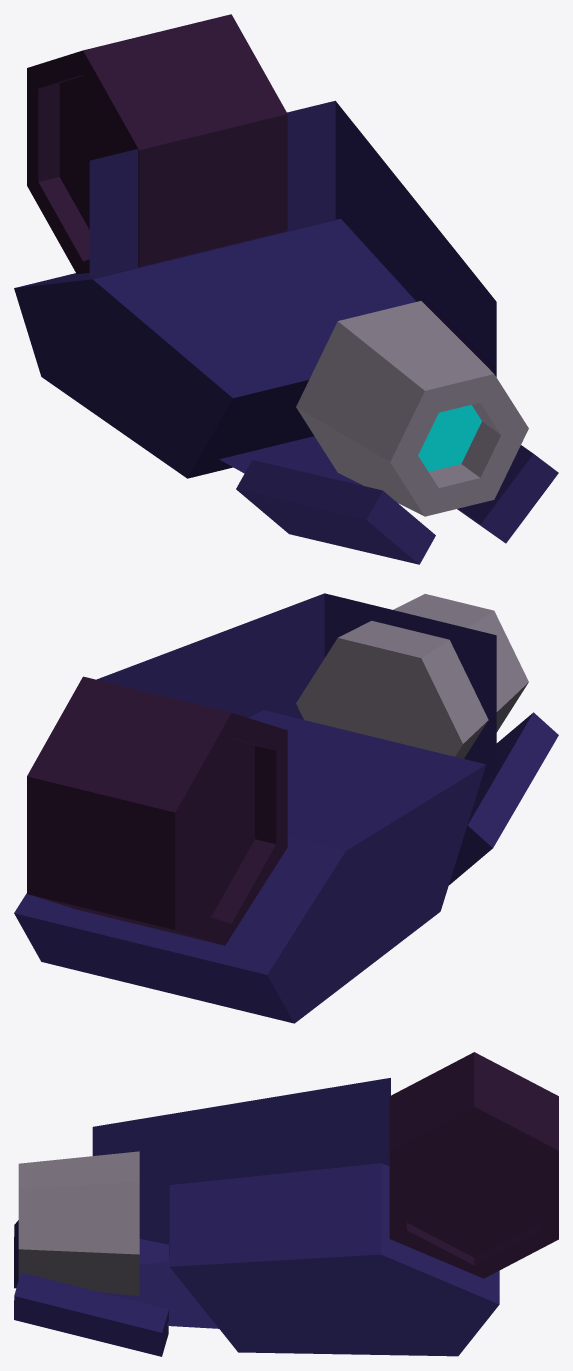
File: Arm Cannon Ver1.fbx
3 views of the same model, one above another, from view 1: azimuth 30°, elevation 25°; view 2: azimuth 150°, elevation 25°; view 3: azimuth 270°, elevation 25° (orthographic). The views are drawn at different scales.
Visible parts, largest first — view 1: Arm Cannon; view 2: Arm Cannon; view 3: Arm Cannon.
Part boxes in pixels (<box>): Arm Cannon: <box>14,14,558,564</box>; Arm Cannon: <box>14,593,558,1023</box>; Arm Cannon: <box>14,1052,558,1356</box>.
Bounding box in the file's own units: 110 × 136 × 268.
